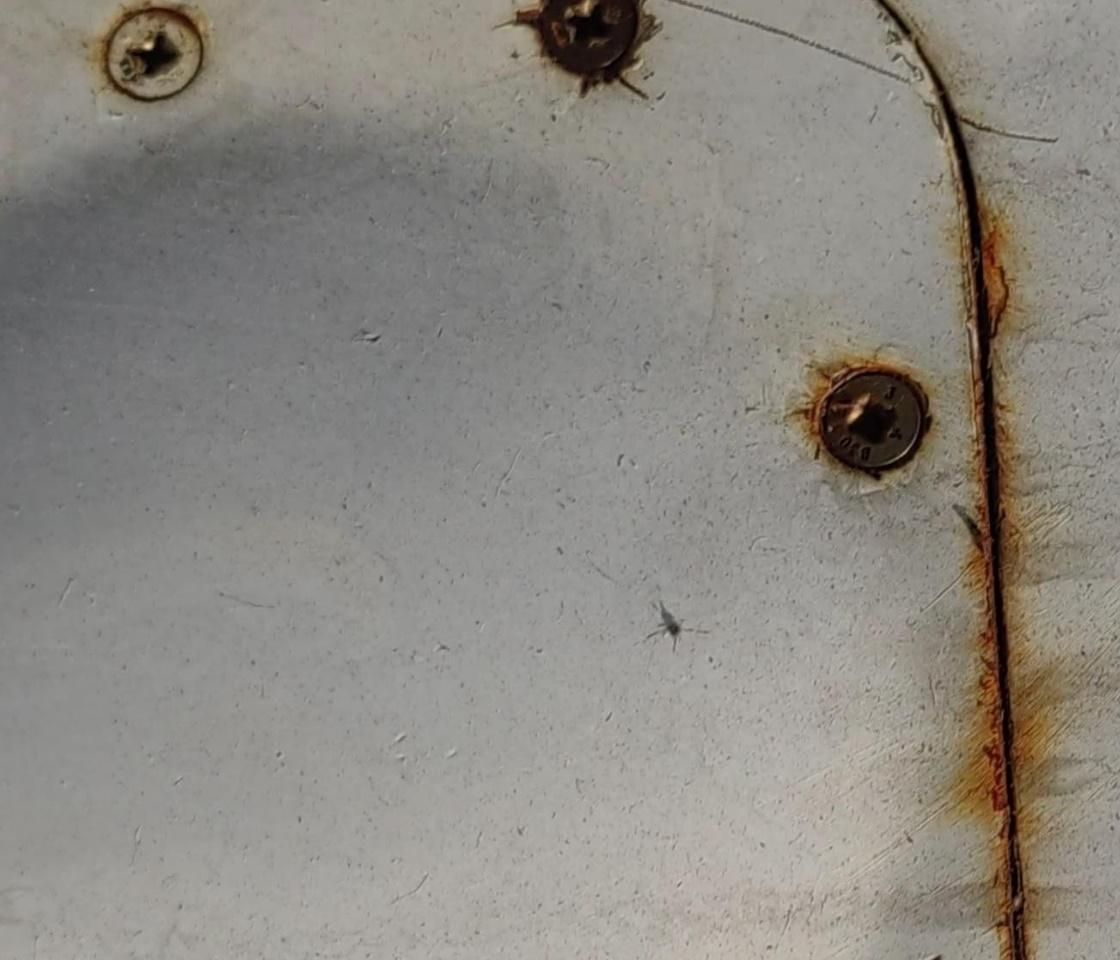rivet_damage: (513, 1, 675, 93), (810, 361, 931, 484), (96, 3, 210, 108)
